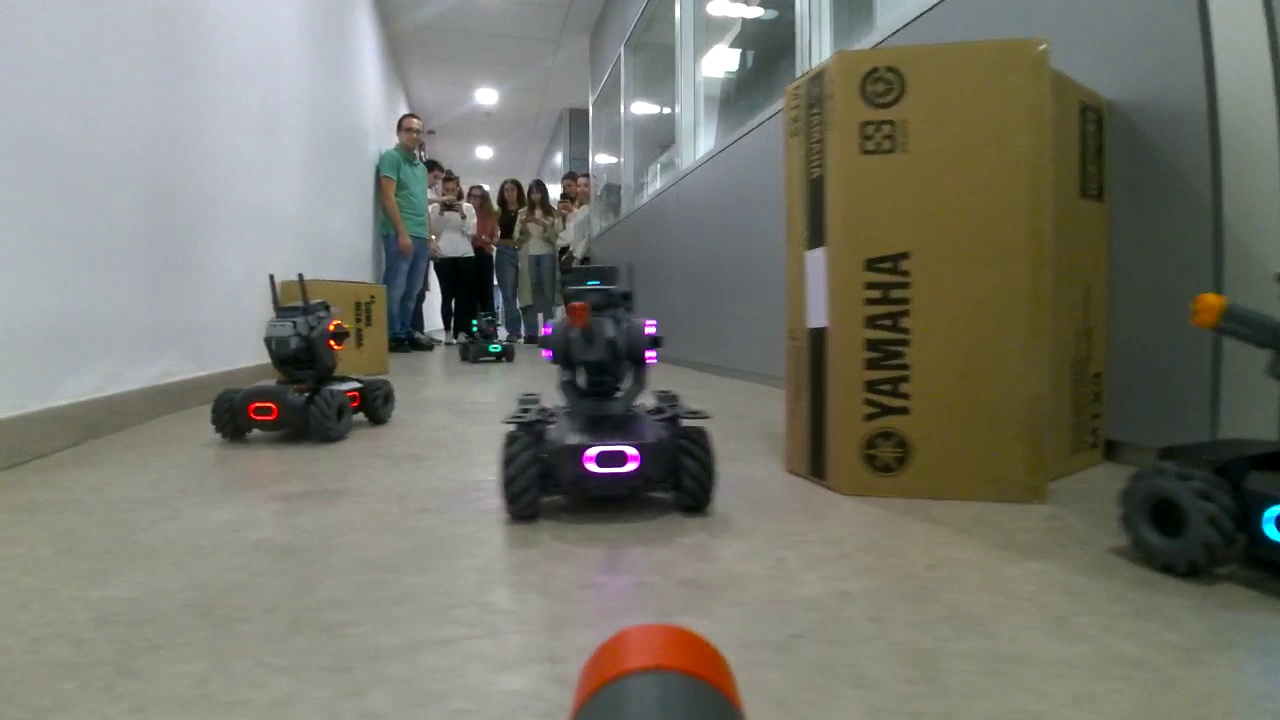robot: (501, 266, 715, 523), (209, 301, 396, 445), (459, 313, 515, 365)
